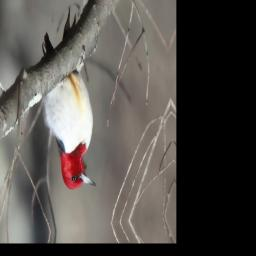Woodpecker: (36, 0, 99, 194)
